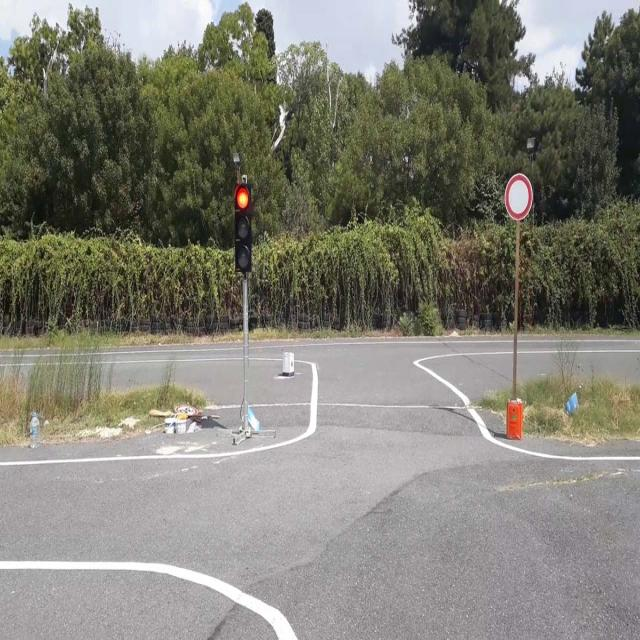kirmizi: (234, 183, 251, 273)
